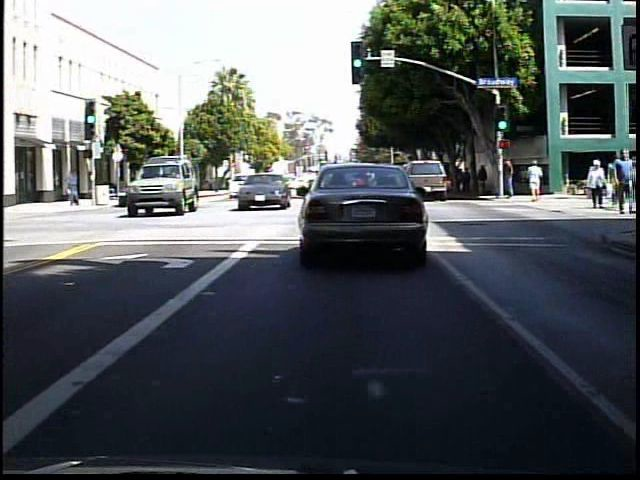person: (614, 150, 636, 217), (582, 159, 610, 211), (497, 157, 517, 206), (524, 159, 544, 205), (66, 169, 85, 209), (476, 165, 490, 197), (462, 166, 474, 198)
